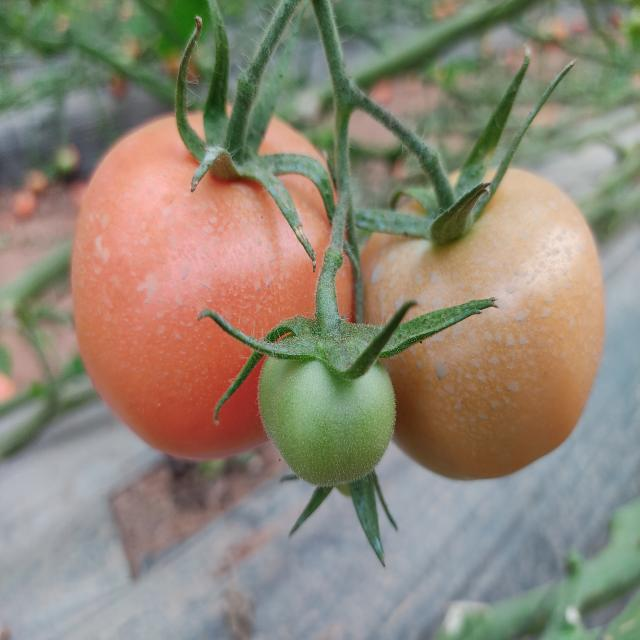Ripe Tomato: (68, 109, 350, 462)
Unripe Tomato: (361, 170, 599, 472), (258, 323, 396, 484)
